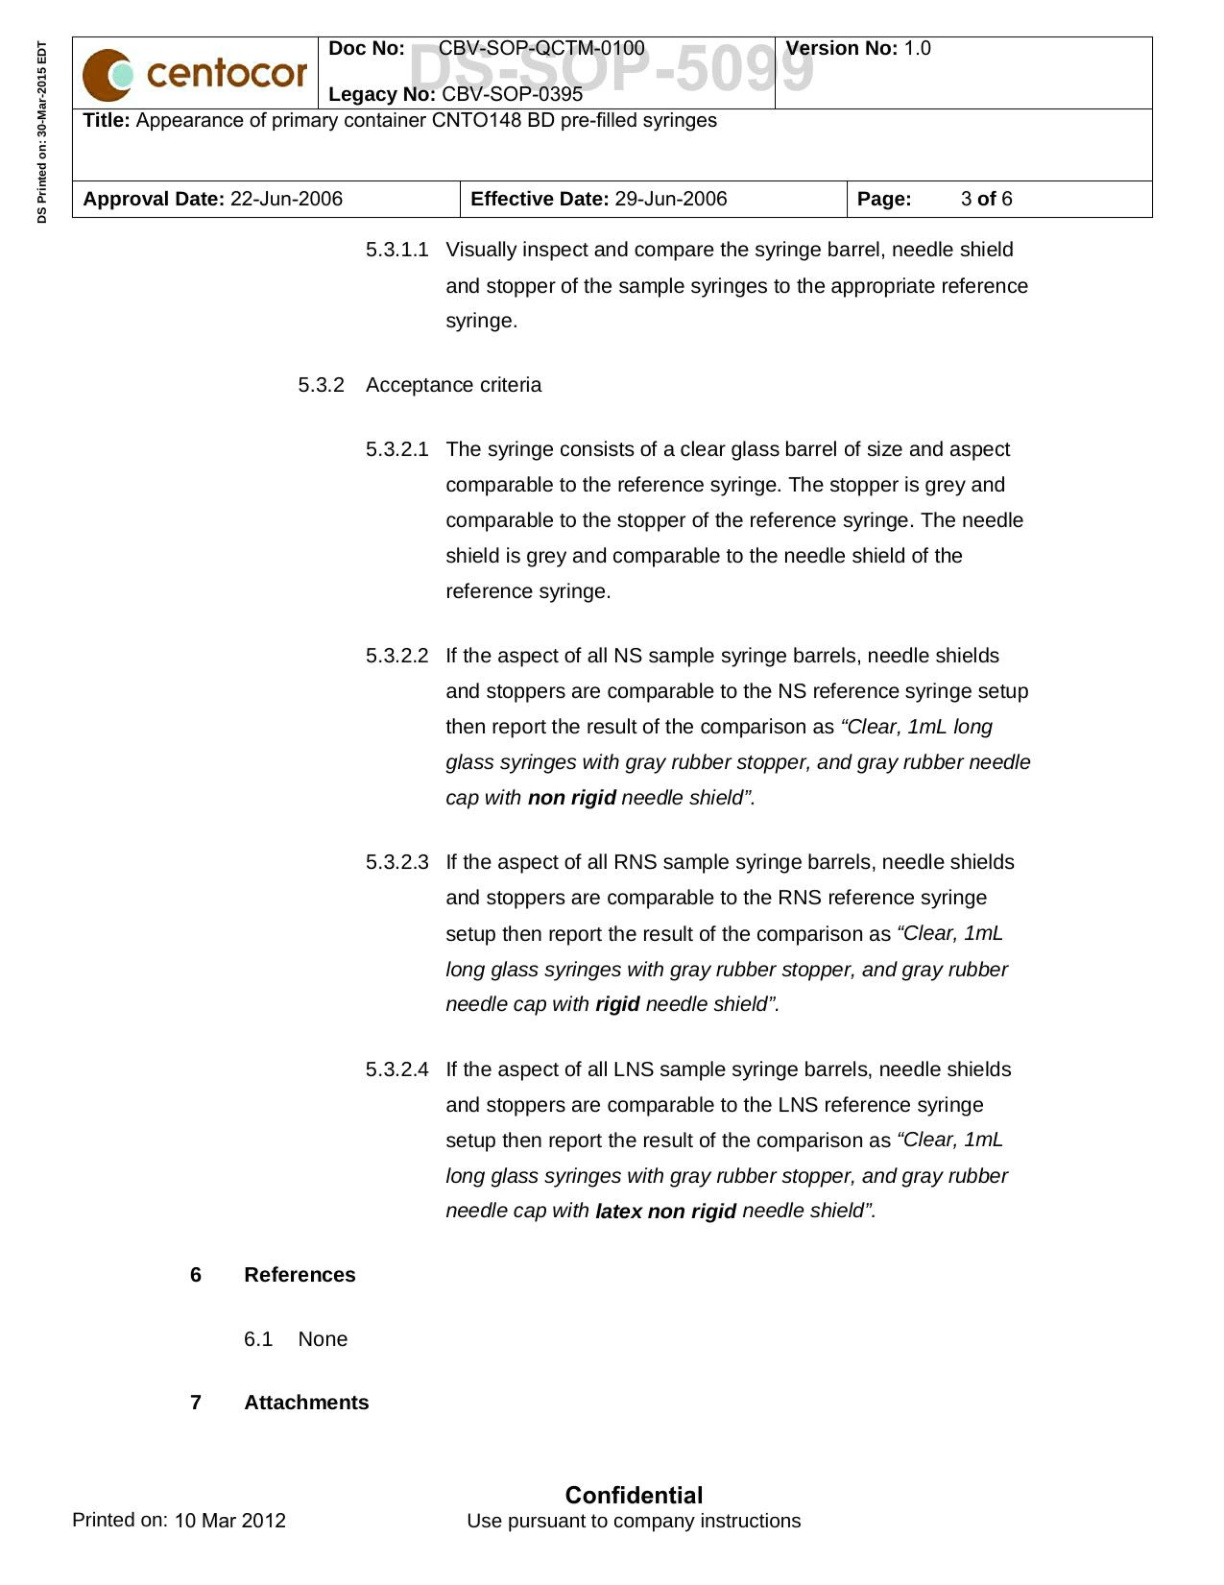merged_cells: (71, 33, 1153, 219)
